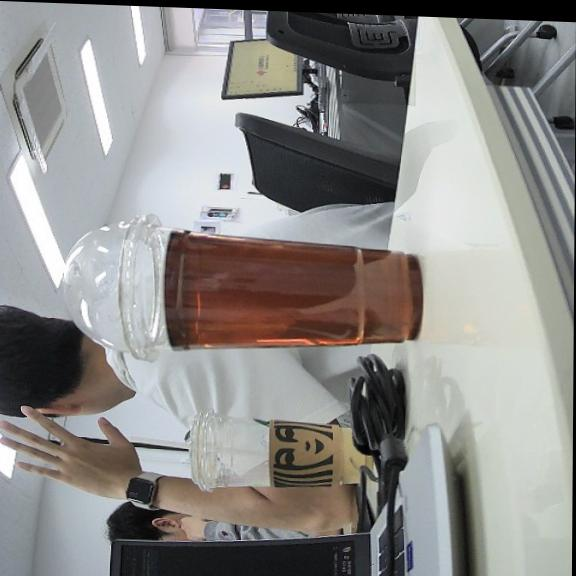Plastik: (64, 214, 421, 360)
